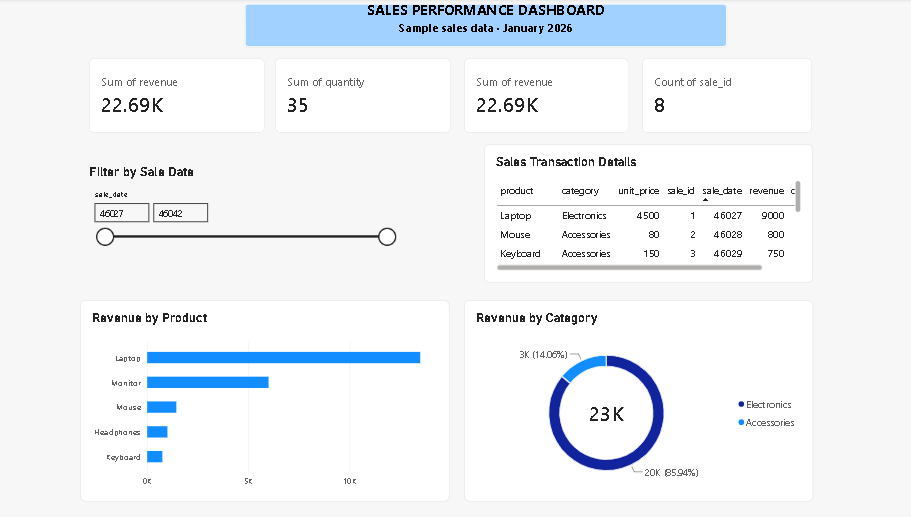

The dashboard page shown, as its layout file describes it:
{"tool":"powerbi","page":{"name":"Page 1","canvas":[1920,1080],"ordinal":0},"visuals":[{"type":"textbox","title":"SALES PERFORMANCE DASHBOARD ","box":[251.2,11.2,687.8,61.1],"z":0},{"type":"clusteredBarChart","title":"Revenue by Product","fields":{"Category":["Sales Data.product"],"Y":["Sum(Sales Data.revenue)"]},"box":[12.5,446.2,527.5,287.5],"z":1000},{"type":"donutChart","title":"Revenue by Category","fields":{"Category":["Sales Data.category"],"Y":["Sum(Sales Data.revenue)"]},"box":[561.2,446.2,498.8,287.5],"z":2000},{"type":"tableEx","title":"Sales Transaction Details","fields":{"Values":["Sales Data.product","Sales Data.category","Sales Data.unit_price","Sales Data.sale_id","Sales Data.sale_date","Sales Data.revenue","Sales Data.quantity"]},"box":[590,222.5,470,197.5],"z":3000},{"type":"slicer","title":"Filter by Sale Date","fields":{"Values":["Sales Data.sale_date"]},"box":[25,251.2,442.5,117.5],"z":4000},{"type":"cardVisual","fields":{"Data":["CountNonNull(Sales Data.sale_id)"]},"box":[816.2,100,243.8,107.5],"z":5000},{"type":"cardVisual","fields":{"Data":["Sum(Sales Data.revenue)"]},"box":[25,100,251.2,107.5],"z":6000},{"type":"cardVisual","title":"]","fields":{"Data":["Sum(Sales Data.quantity)"]},"box":[291.2,100,251.2,107.5],"z":7000},{"type":"cardVisual","fields":{"Data":["Sum(Sales Data.revenue)"]},"box":[561.2,100,235,107.5],"z":8000}]}

Visuals, with their boxes in screenshot pixels (x1, y1, x2, y2), scaled from the page's 1920x1080 canvas onto the 911x517 screenshot:
"SALES PERFORMANCE DASHBOARD " textbox: bbox=[119, 5, 446, 35]
"Revenue by Product" clusteredBarChart: bbox=[6, 214, 256, 351]
"Revenue by Category" donutChart: bbox=[266, 214, 503, 351]
"Sales Transaction Details" tableEx: bbox=[280, 107, 503, 201]
"Filter by Sale Date" slicer: bbox=[12, 120, 222, 176]
cardVisual - CountNonNull(Sales Data.sale_id): bbox=[387, 48, 503, 99]
cardVisual - Sum(Sales Data.revenue): bbox=[12, 48, 131, 99]
"]" cardVisual: bbox=[138, 48, 257, 99]
cardVisual - Sum(Sales Data.revenue): bbox=[266, 48, 378, 99]
